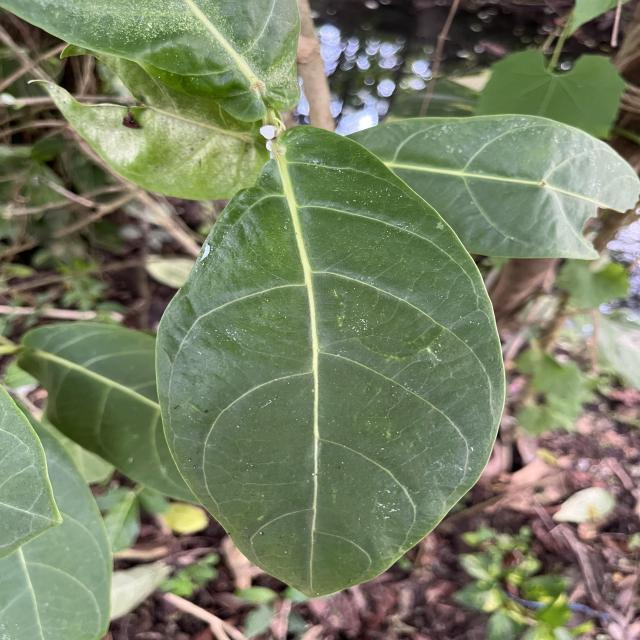Calotropis gigantea: (150, 119, 510, 603), (342, 111, 640, 264)
